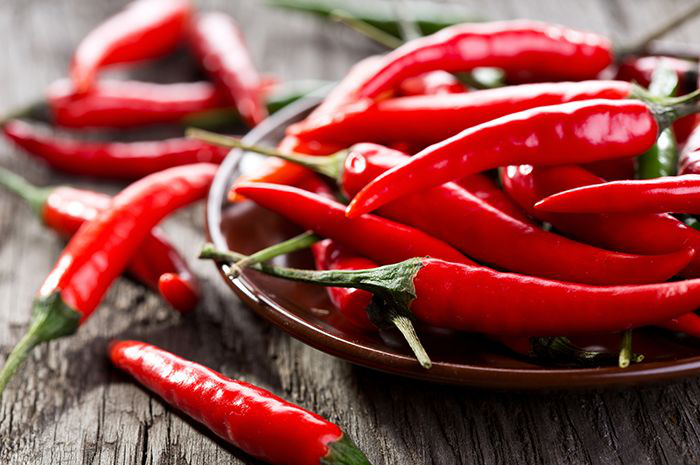Cabai: (354, 69, 623, 349)
